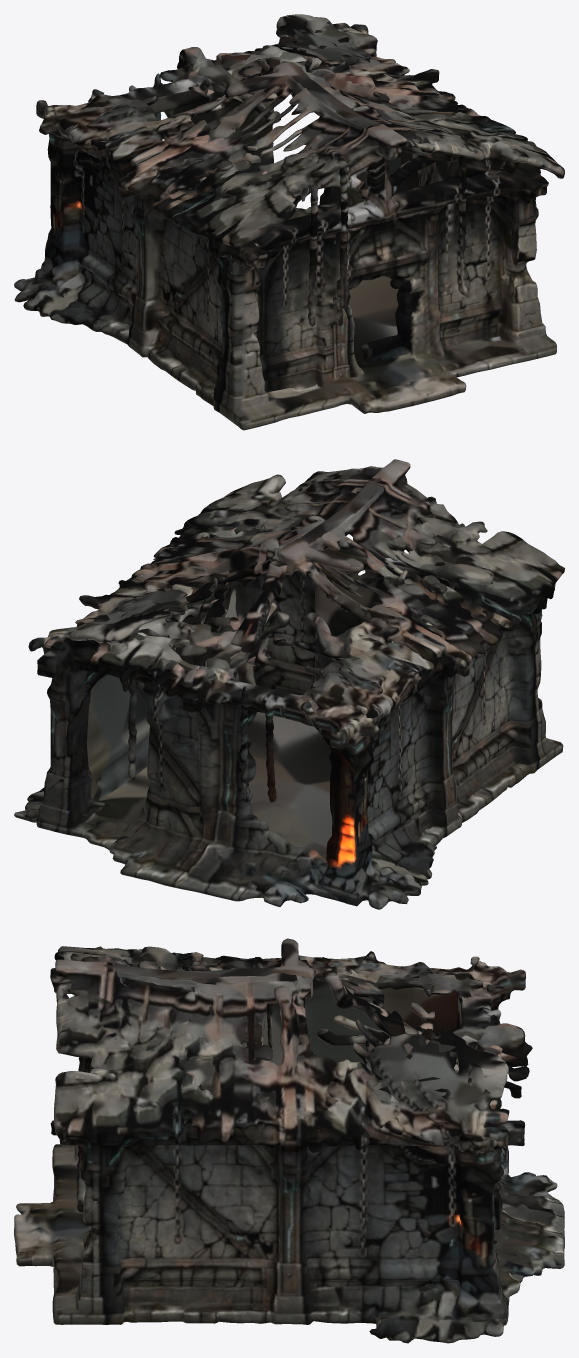
The model's file is struct_ruined_forge_hall.glb.
The picture shows the model from 3 angles, top to bottom: view 1: azimuth 30°, elevation 25°; view 2: azimuth 150°, elevation 25°; view 3: azimuth 270°, elevation 25°; orthographic projection. The views are drawn at different scales.
Visible parts, largest first — view 1: geometry_0; view 2: geometry_0; view 3: geometry_0.
Part boxes in pixels (x1,y1,x2,y2): geometry_0: [14, 14, 564, 430]; geometry_0: [14, 459, 564, 909]; geometry_0: [14, 938, 564, 1343].
Bounding box in the file's own units: 15.98 × 10 × 17.75.
Materials: 1 (1 with a texture image).
